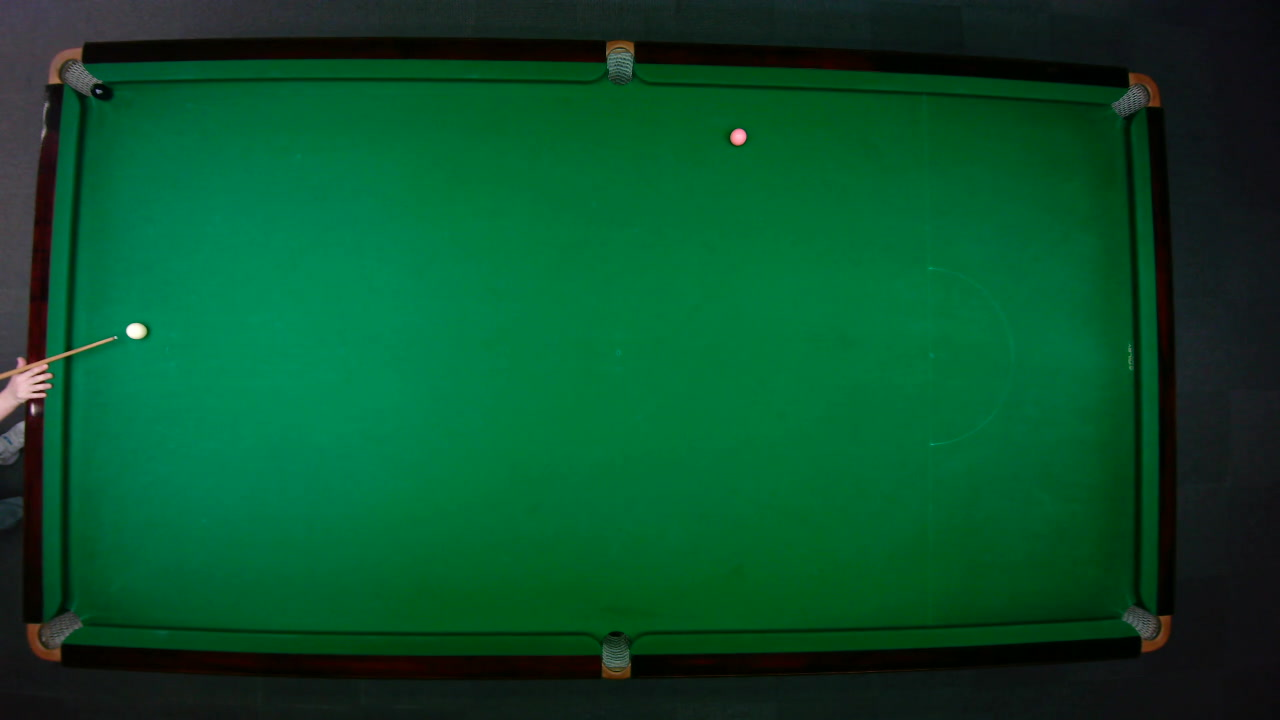bag: (25, 609, 83, 661), (45, 46, 102, 96), (1119, 603, 1171, 651), (1108, 71, 1161, 118), (600, 629, 629, 680), (605, 38, 633, 85)
black: (90, 82, 110, 100)
cue: (0, 334, 119, 383)
pink: (728, 126, 747, 146)
white: (124, 321, 148, 339)
zone: (927, 265, 1013, 445)
